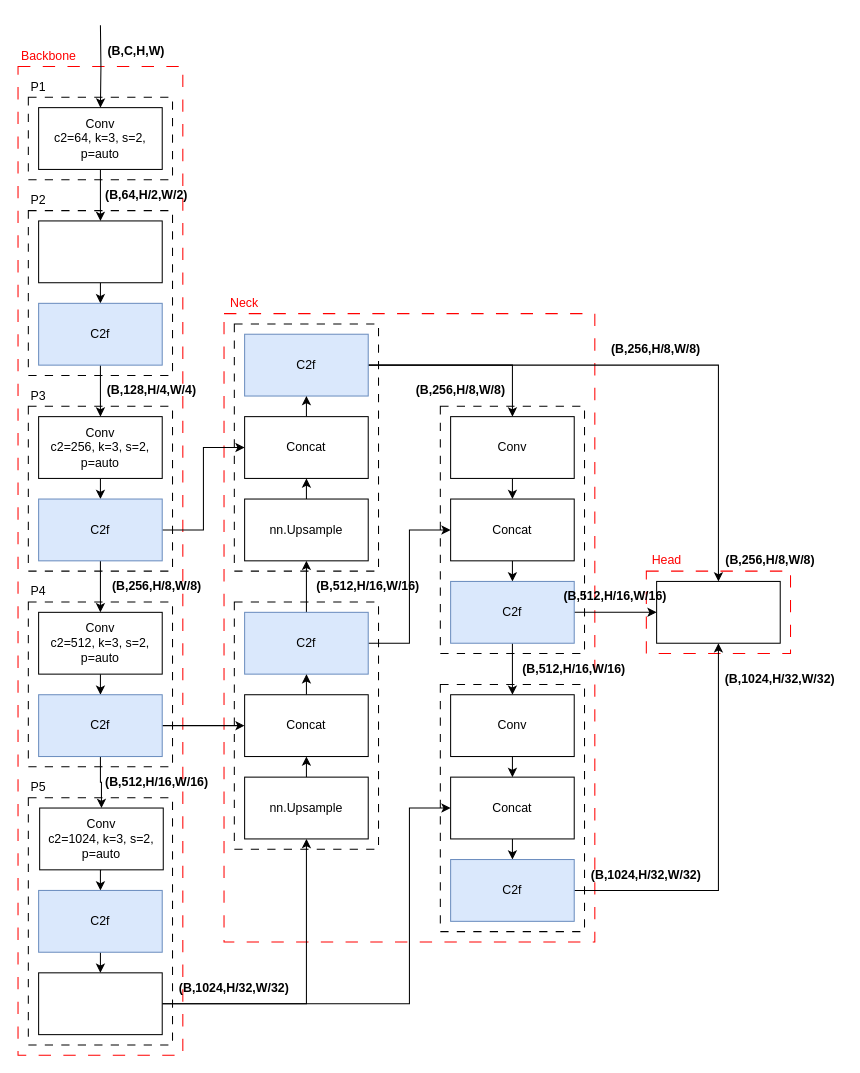
This 860x1073 diagram has some shape labels left out. Each missing label, with the centre of its shape:
"Conv c2=128, k=3, s=2, p=auto" goes at pixel 100 251.
"Detect" goes at pixel 718 611.
"SPPF" goes at pixel 100 1003.
